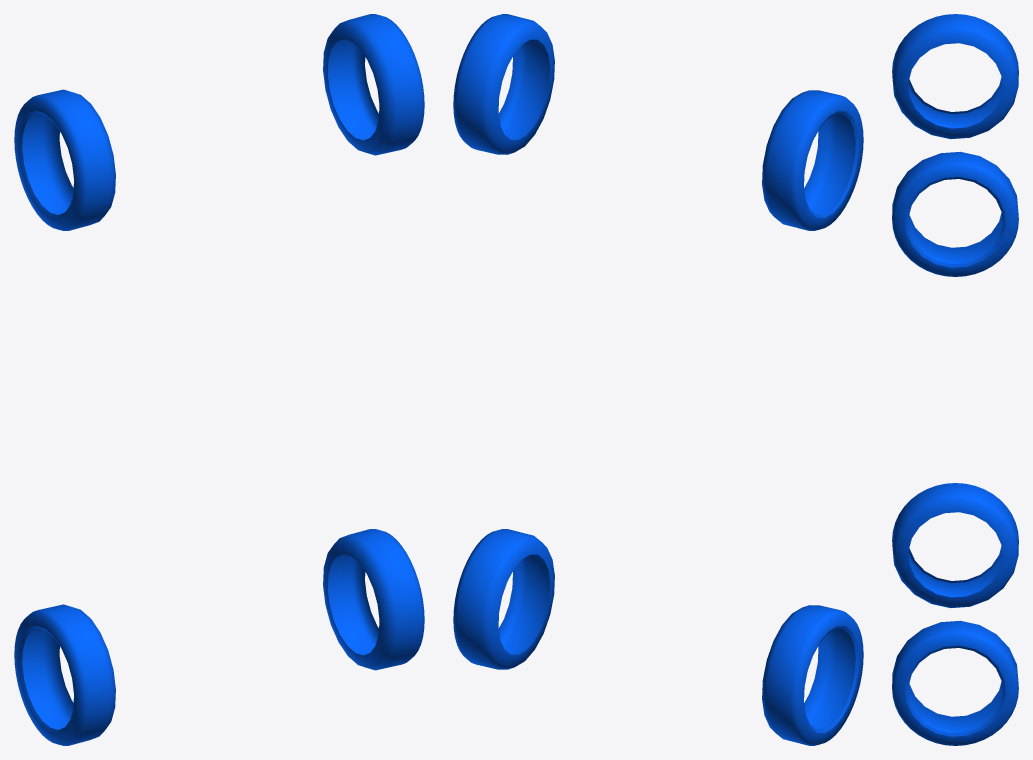
Rendered from Agile_01_Tyres_HD.obj.
3 renders of one model, left to right at view 1: azimuth 30°, elevation 25°; view 2: azimuth 150°, elevation 25°; view 3: azimuth 270°, elevation 25°, orthographic. The views are drawn at different scales.
Parts seen in each view (by area): view 1: Agile_01_Tyres_HD001; view 2: Agile_01_Tyres_HD001; view 3: Agile_01_Tyres_HD001.
Part boxes in pixels (x1,y1,x2,y2): Agile_01_Tyres_HD001: (14, 14, 424, 745); Agile_01_Tyres_HD001: (453, 14, 863, 745); Agile_01_Tyres_HD001: (892, 14, 1018, 745).
Bounding box in the file's own units: 182 × 323 × 63.58.
